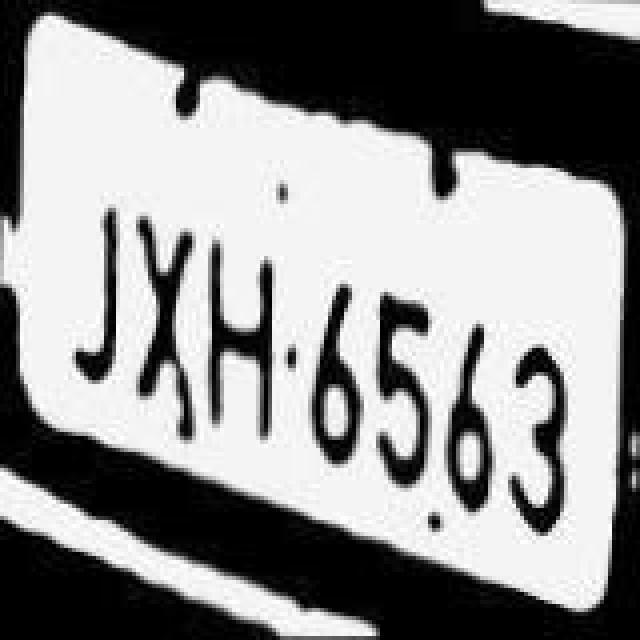3: (504, 318, 572, 546)
5: (364, 276, 432, 508)
6: (296, 270, 364, 494), (440, 308, 500, 524)
H: (204, 222, 284, 458)
J: (72, 180, 136, 404)
X: (132, 196, 204, 416)
